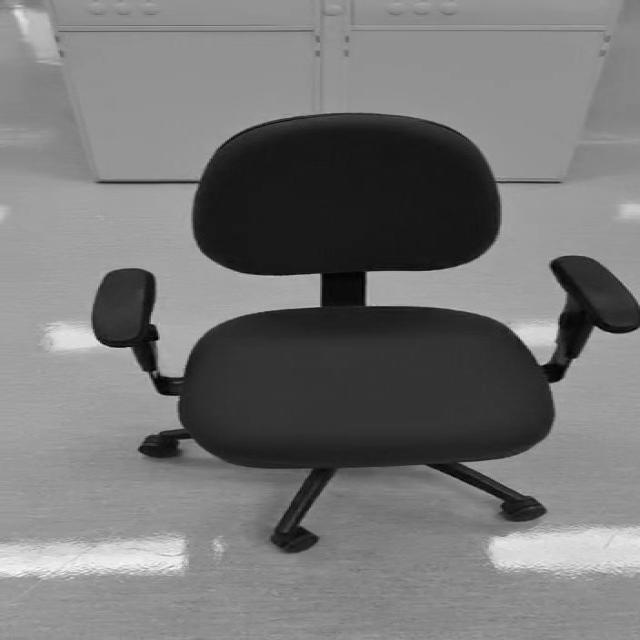chair: (90, 112, 640, 554)
